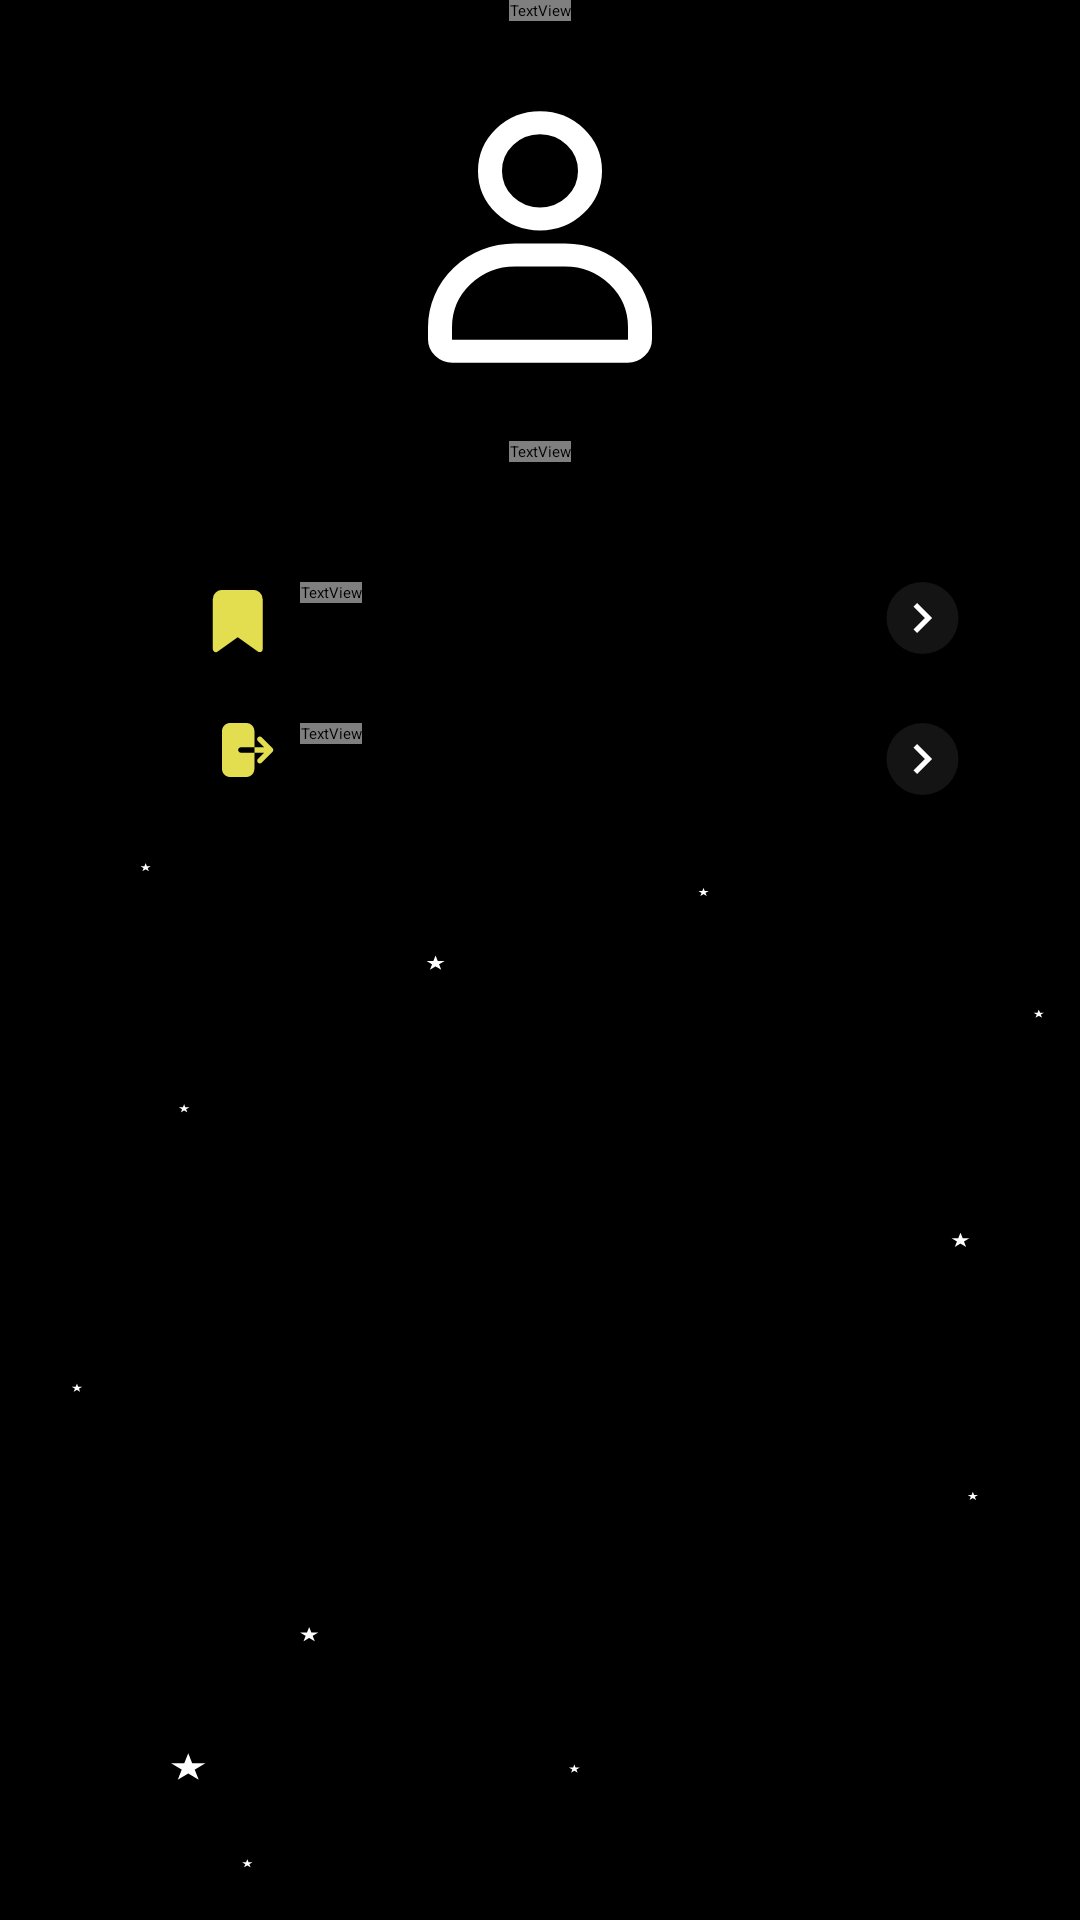

Where icons sit on this 1080×1920 app screen, as Rect(x1, y1, x2, y2):
profile: Rect(428, 111, 652, 363)
